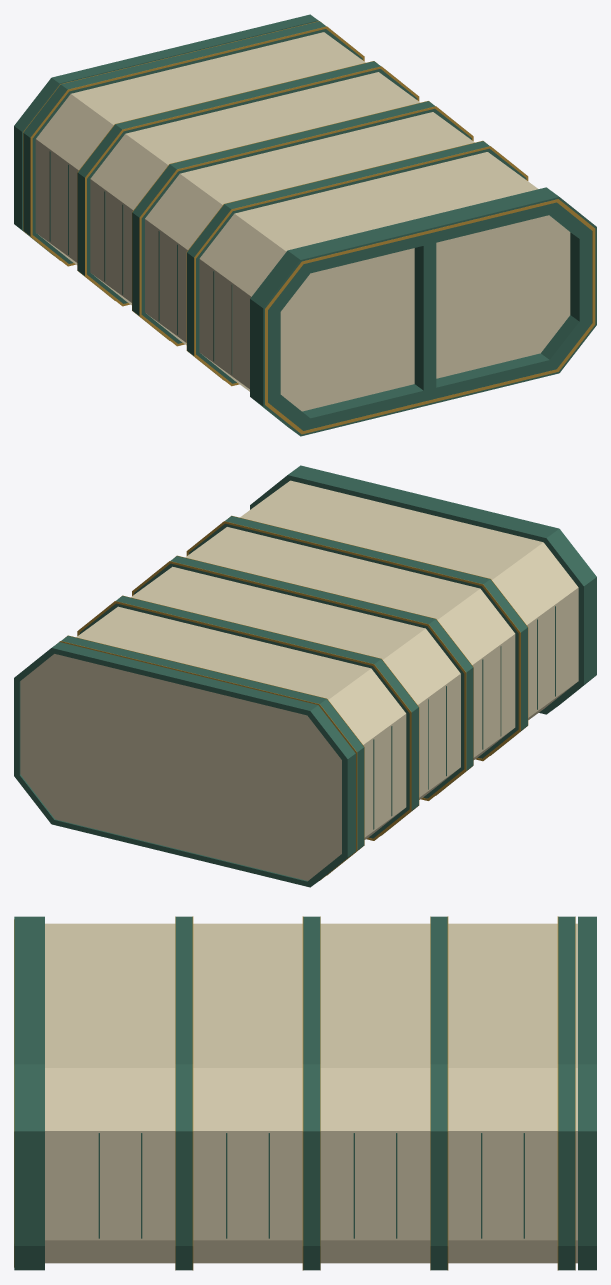
The model's file is hangar2_shell.obj.
3 views of the same model, one above another, from view 1: azimuth 30°, elevation 25°; view 2: azimuth 150°, elevation 25°; view 3: azimuth 270°, elevation 25° (orthographic). The views are drawn at different scales.
Visible parts, largest first — view 1: hangar2_shell; view 2: hangar2_shell; view 3: hangar2_shell.
Boxes of the visible parts, left/top/right/bottom form: hangar2_shell: left=14, top=14, right=596, bottom=436; hangar2_shell: left=14, top=465, right=596, bottom=887; hangar2_shell: left=14, top=916, right=596, bottom=1270.
Bounding box in the file's own units: 9.55 × 4.83 × 12.35.
